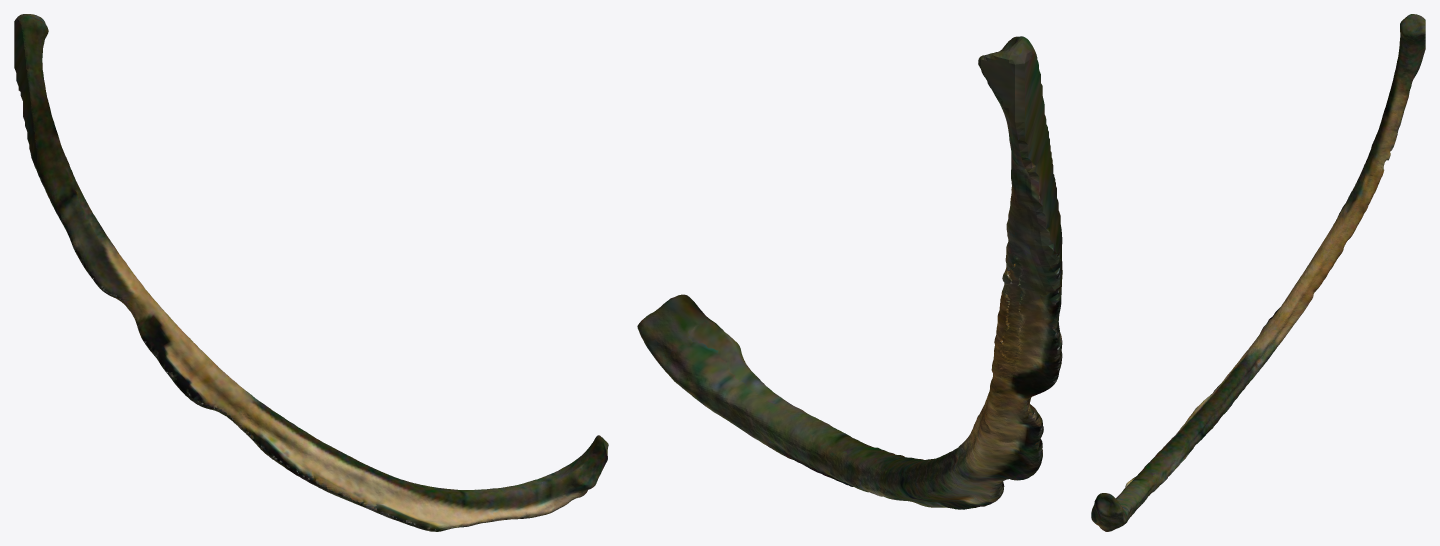
The model's file is 3l_ribs.glb.
3 renders of one model, left to right at view 1: azimuth 30°, elevation 25°; view 2: azimuth 150°, elevation 25°; view 3: azimuth 270°, elevation 25°, orthographic. The views are drawn at different scales.
Visible parts, largest first — view 1: Node; view 2: Node; view 3: Node.
Boxes of the visible parts, x1=… form: Node: x1=14, y1=14, x2=608, y2=531; Node: x1=637, y1=36, x2=1062, y2=509; Node: x1=1091, y1=14, x2=1425, y2=531.
Bounding box in the file's own units: 54.41 × 57.12 × 45.7.
1 material, 1 textured.
